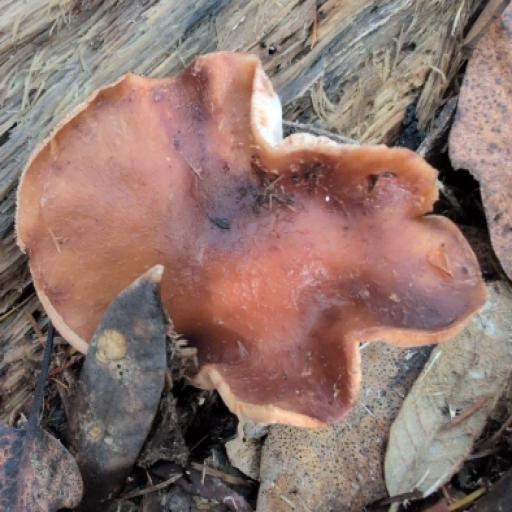Shiitake Mushroom: (0, 1, 511, 500)
